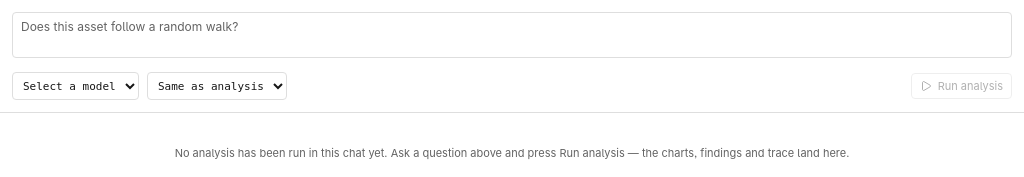
RunPanel › cannot start without a question and a model
The image size is (1024, 177).
expect the button "Run analysis" is disabled: met, box [911,73,1012,99]
Type "why?" into the text box named "Question". click: [512, 35]
box: [12,12,1012,58]
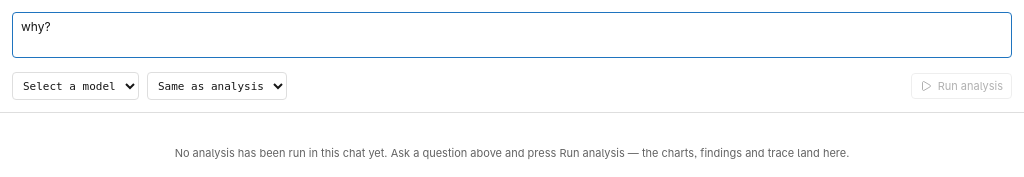
Select "ministral-3:8b" in the dropdown named "Analysis model". click: [76, 86]
box: [12,72,139,100]
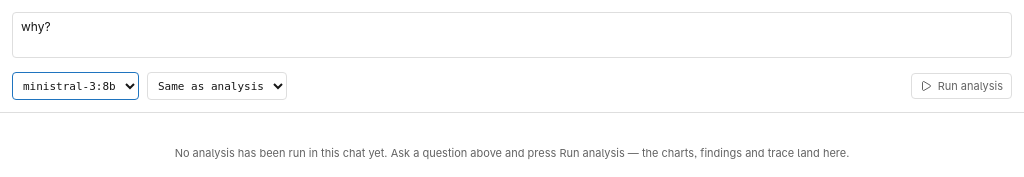
expect the button "Run analysis" is enabled: met, box [911,73,1012,99]
